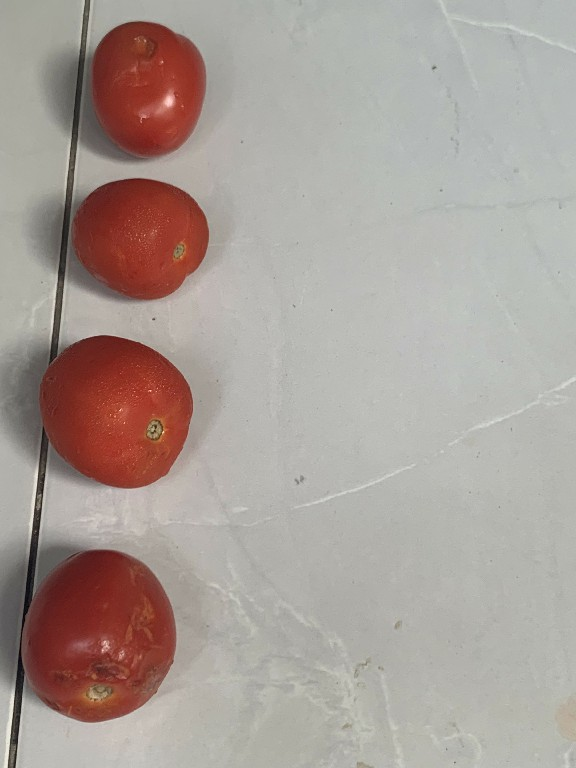NG: (10, 543, 185, 727), (78, 13, 211, 159)
OK: (31, 326, 191, 496), (62, 172, 212, 310)
